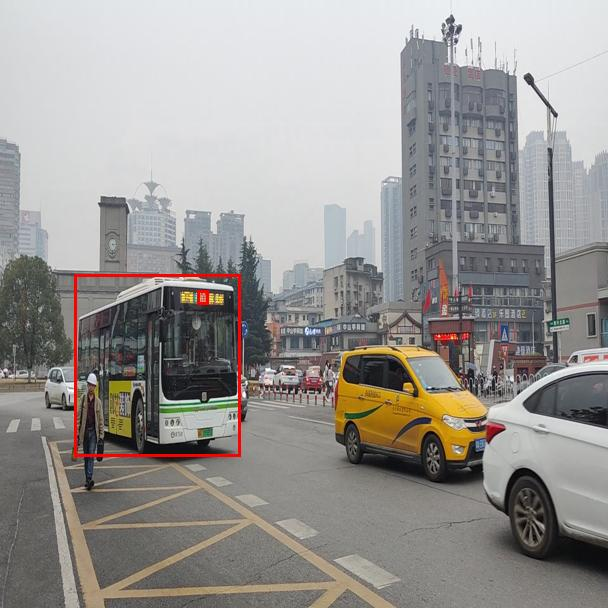bus: (74, 274, 240, 456)
screen: (197, 290, 208, 304)
